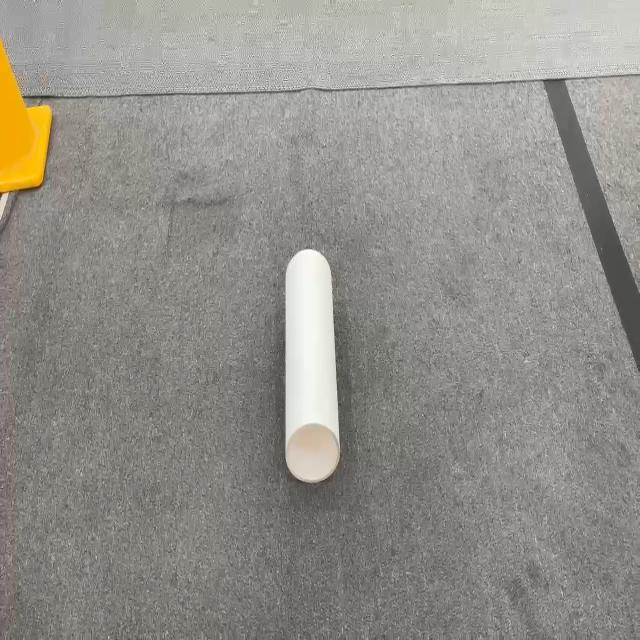coral: (283, 247, 341, 483)
